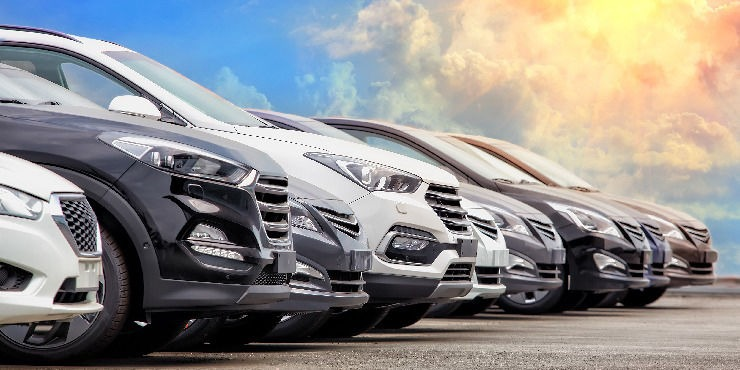car: (1, 14, 711, 358), (1, 6, 705, 345), (26, 43, 458, 334), (8, 22, 315, 367), (179, 90, 562, 326), (293, 118, 702, 318), (274, 140, 557, 324), (215, 134, 468, 315)
